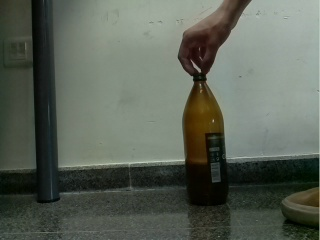pote cristal: (181, 73, 228, 206)
